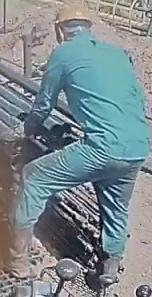gloves: (13, 111, 44, 145)
helmet: (53, 0, 94, 31)
vest: (46, 40, 150, 159)
